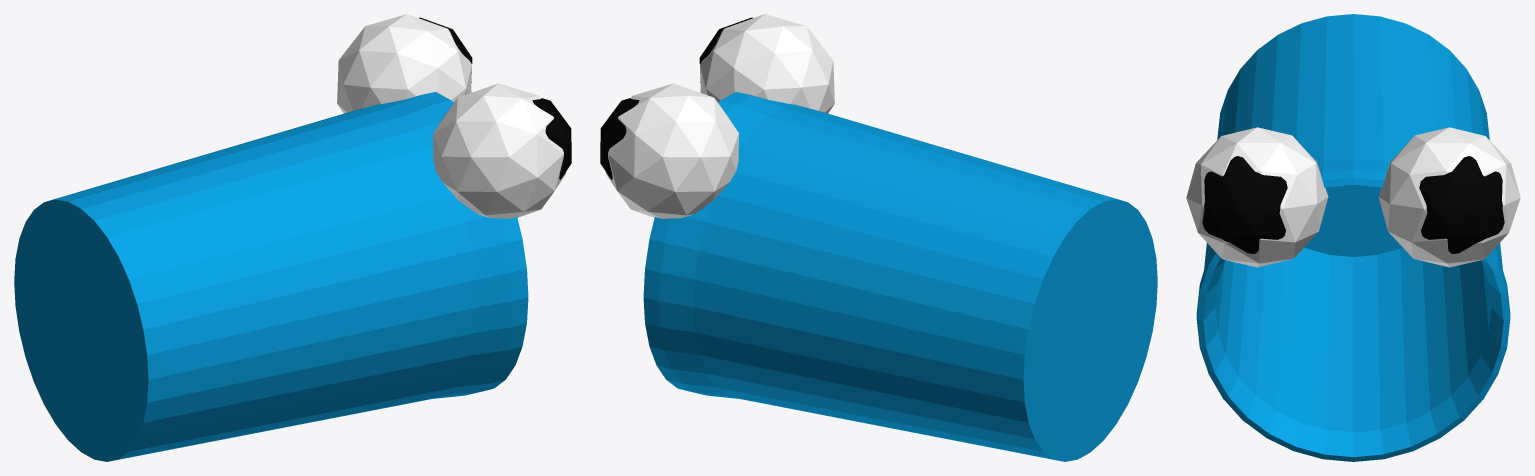
File: CupModel.fbx
3 views of the same model, side by side, from view 1: azimuth 30°, elevation 25°; view 2: azimuth 150°, elevation 25°; view 3: azimuth 270°, elevation 25° (orthographic).
Visible parts, largest first — view 1: Cup; view 2: Cup; view 3: Cup.
Boxes of the visible parts, x1=… form: Cup: x1=14, y1=14, x2=571, y2=461; Cup: x1=600, y1=14, x2=1157, y2=461; Cup: x1=1186, y1=14, x2=1520, y2=461.
Size of the model in its own units: 902 by 1371 by 974.
